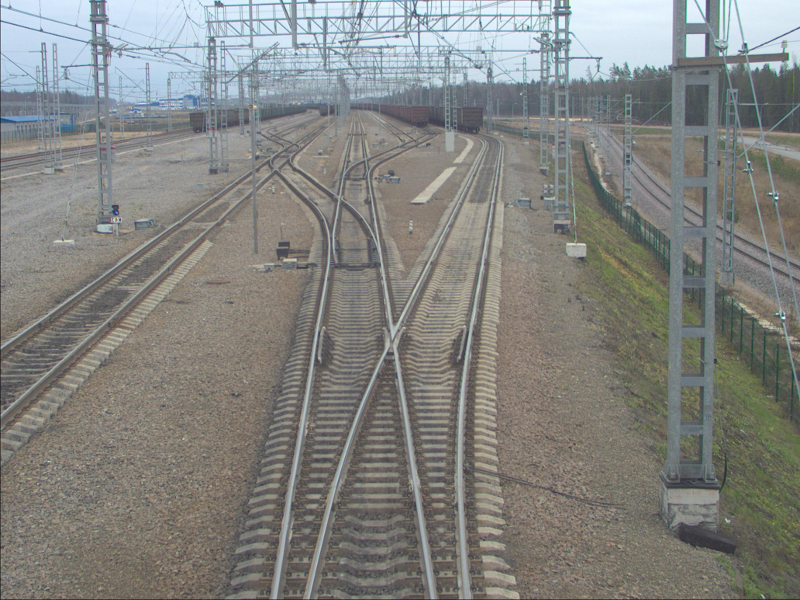left: (326, 195, 382, 268)
right: (343, 158, 371, 177)
